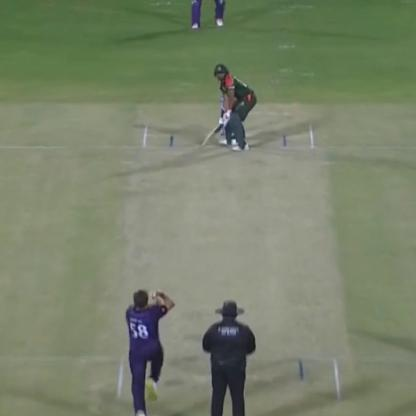bat: (198, 110, 226, 152)
pitch: (115, 124, 348, 401)
